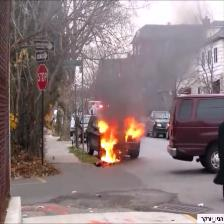fire: (88, 114, 153, 170)
smoke: (88, 0, 217, 114)
